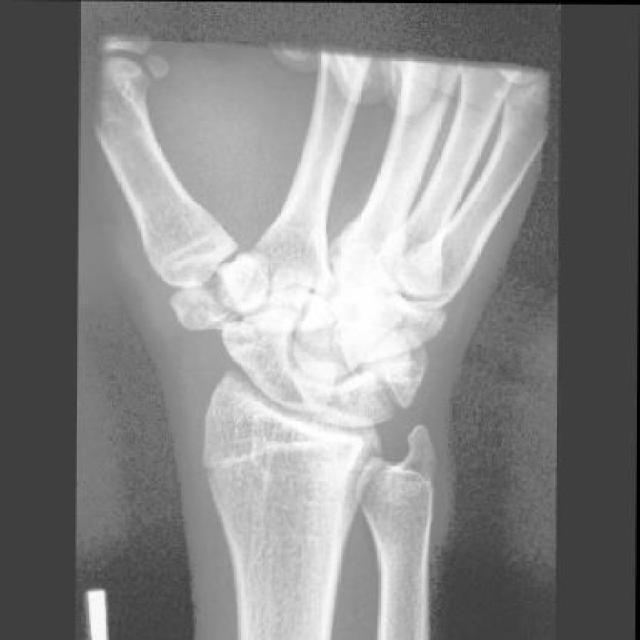Fracture: (190, 259, 258, 330)
